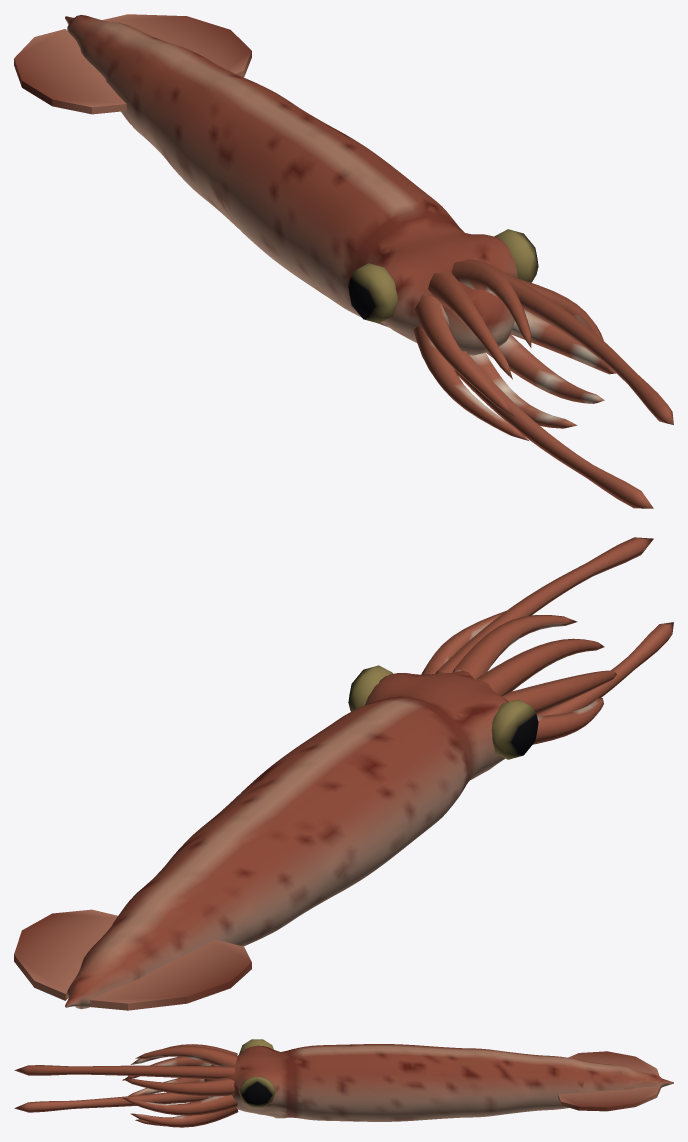
Rendered from Syllipsimopodi.fbx.
3 views of the same model, one above another, from view 1: azimuth 30°, elevation 25°; view 2: azimuth 150°, elevation 25°; view 3: azimuth 270°, elevation 25° (orthographic). The views are drawn at different scales.
Parts seen in each view (by area): view 1: Syllipsimopodi; view 2: Syllipsimopodi; view 3: Syllipsimopodi.
Boxes of the visible parts, left/top/right/bottom form: Syllipsimopodi: left=14, top=14, right=673, bottom=508; Syllipsimopodi: left=14, top=537, right=673, bottom=1010; Syllipsimopodi: left=14, top=1039, right=673, bottom=1127.
Bounding box in the file's own units: 0.3743 × 0.2333 × 1.86.
